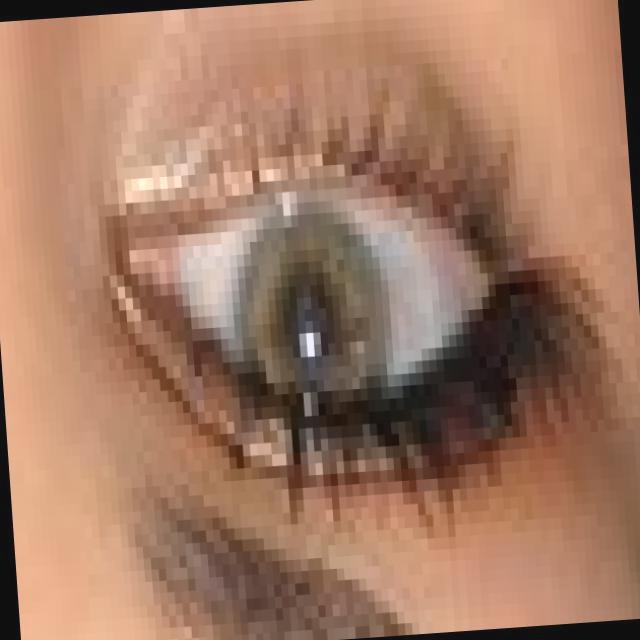Normal: (38, 102, 569, 546)
